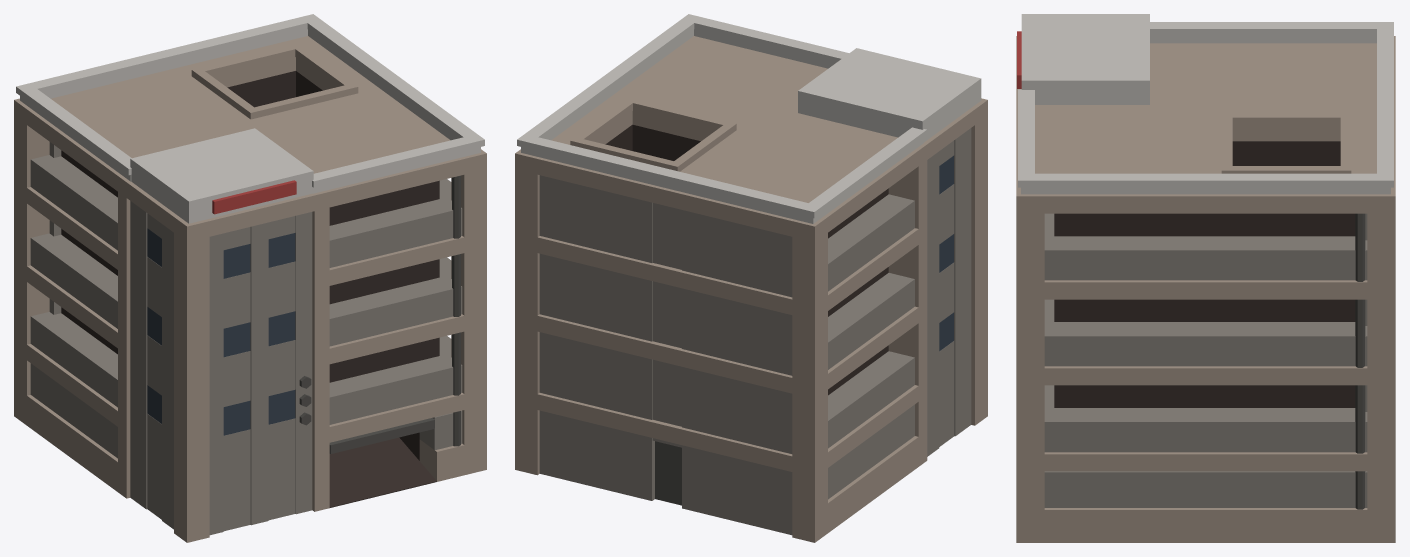
Rendered from parking-garage-e1b981.glb.
3 views of the same model, side by side, from view 1: azimuth 30°, elevation 25°; view 2: azimuth 150°, elevation 25°; view 3: azimuth 270°, elevation 25° (orthographic). The views are drawn at different scales.
Parts seen in each view (by area): view 1: garage-shell; view 2: garage-shell; view 3: garage-shell.
Boxes of the visible parts, <box> form: garage-shell: <box>14,14,486,542</box>; garage-shell: <box>515,14,987,542</box>; garage-shell: <box>1016,14,1395,542</box>.
Size of the model in its own units: 12 by 12.95 by 12.
